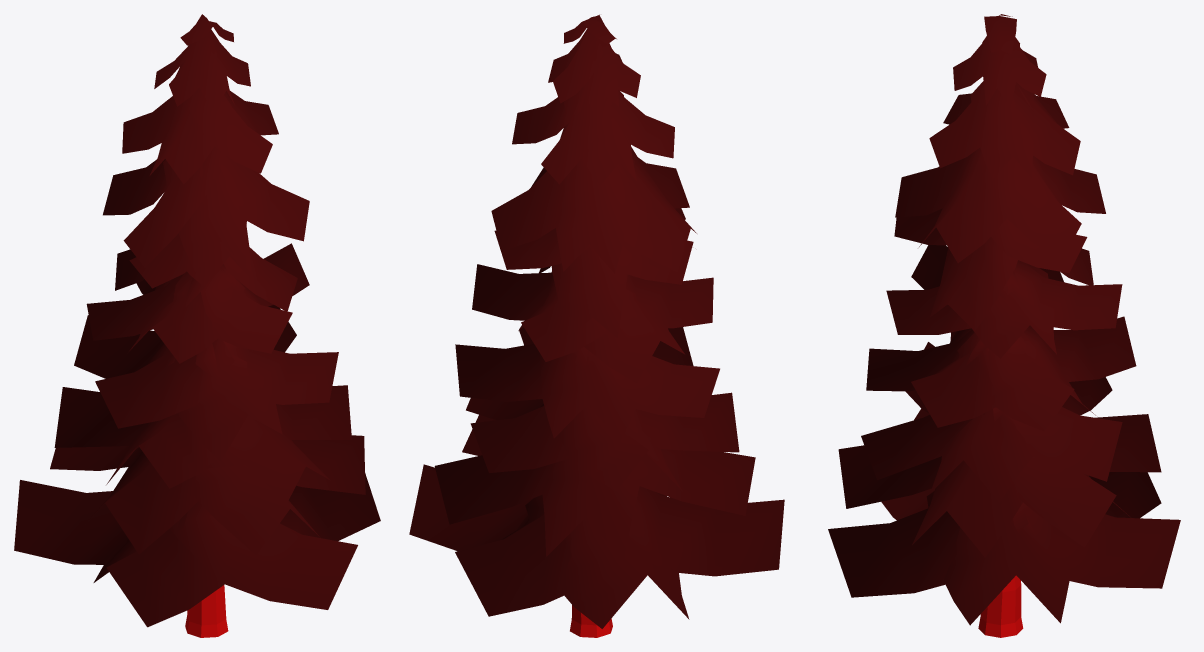
File: SM_Tree_Pine_01.glb
The picture shows the model from 3 angles, left to right: view 1: azimuth 30°, elevation 25°; view 2: azimuth 150°, elevation 25°; view 3: azimuth 270°, elevation 25°; orthographic projection.
Visible parts, largest first — view 1: SM_Tree_Pine_01; view 2: SM_Tree_Pine_01; view 3: SM_Tree_Pine_01.
Boxes of the visible parts, bbox=[...] form: SM_Tree_Pine_01: bbox=[14, 14, 380, 637]; SM_Tree_Pine_01: bbox=[409, 14, 784, 637]; SM_Tree_Pine_01: bbox=[828, 14, 1180, 637].
Size of the model in its own units: 3.14 by 5.68 by 3.17.
